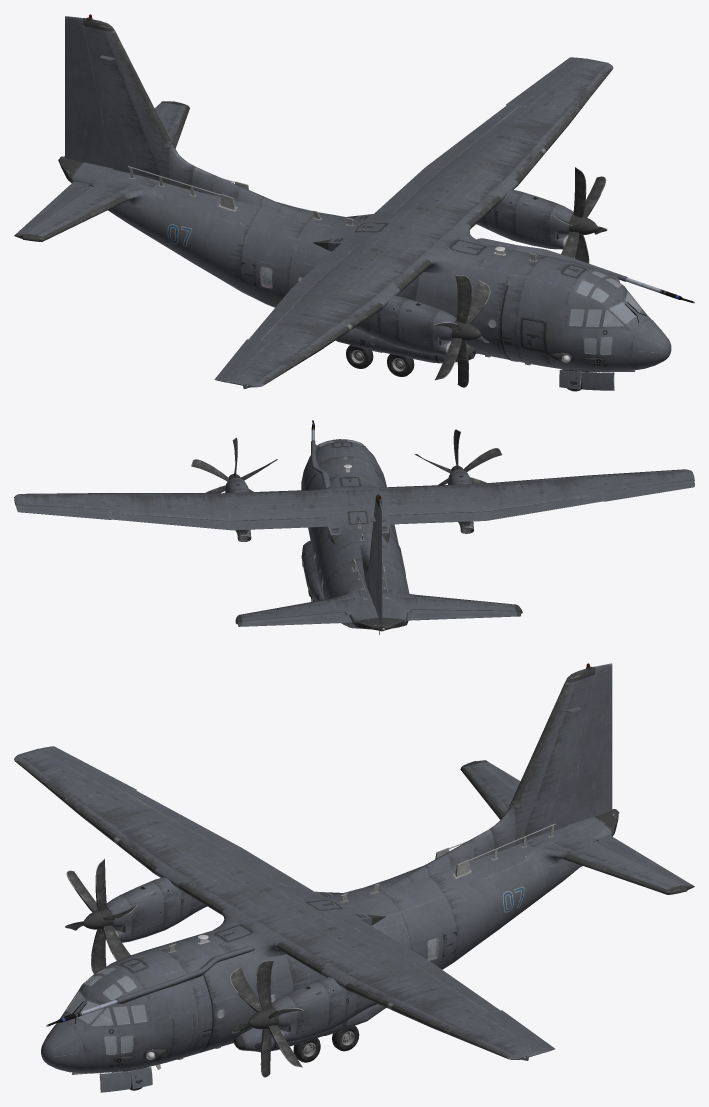
The model's file is c-27j_spartan__broken_arrow.glb.
The picture shows the model from 3 angles, top to bottom: view 1: azimuth 30°, elevation 25°; view 2: azimuth 150°, elevation 25°; view 3: azimuth 270°, elevation 25°; orthographic projection. The views are drawn at different scales.
Visible parts, largest first — view 1: Object_3, Object_4, Object_2; view 2: Object_3, Object_4; view 3: Object_3, Object_4, Object_2.
Boxes of the visible parts, x1,y1,x2,y2 form: Object_3: (14, 14, 694, 388); Object_4: (242, 167, 634, 391); Object_2: (260, 267, 641, 354); Object_3: (14, 420, 694, 634); Object_4: (191, 429, 502, 601); Object_3: (14, 663, 694, 1073); Object_4: (65, 858, 453, 1092); Object_2: (66, 938, 438, 1054).
Size of the model in its own units: 24.26 by 10.35 by 22.24.
Materials: 2 (1 with a texture image).
